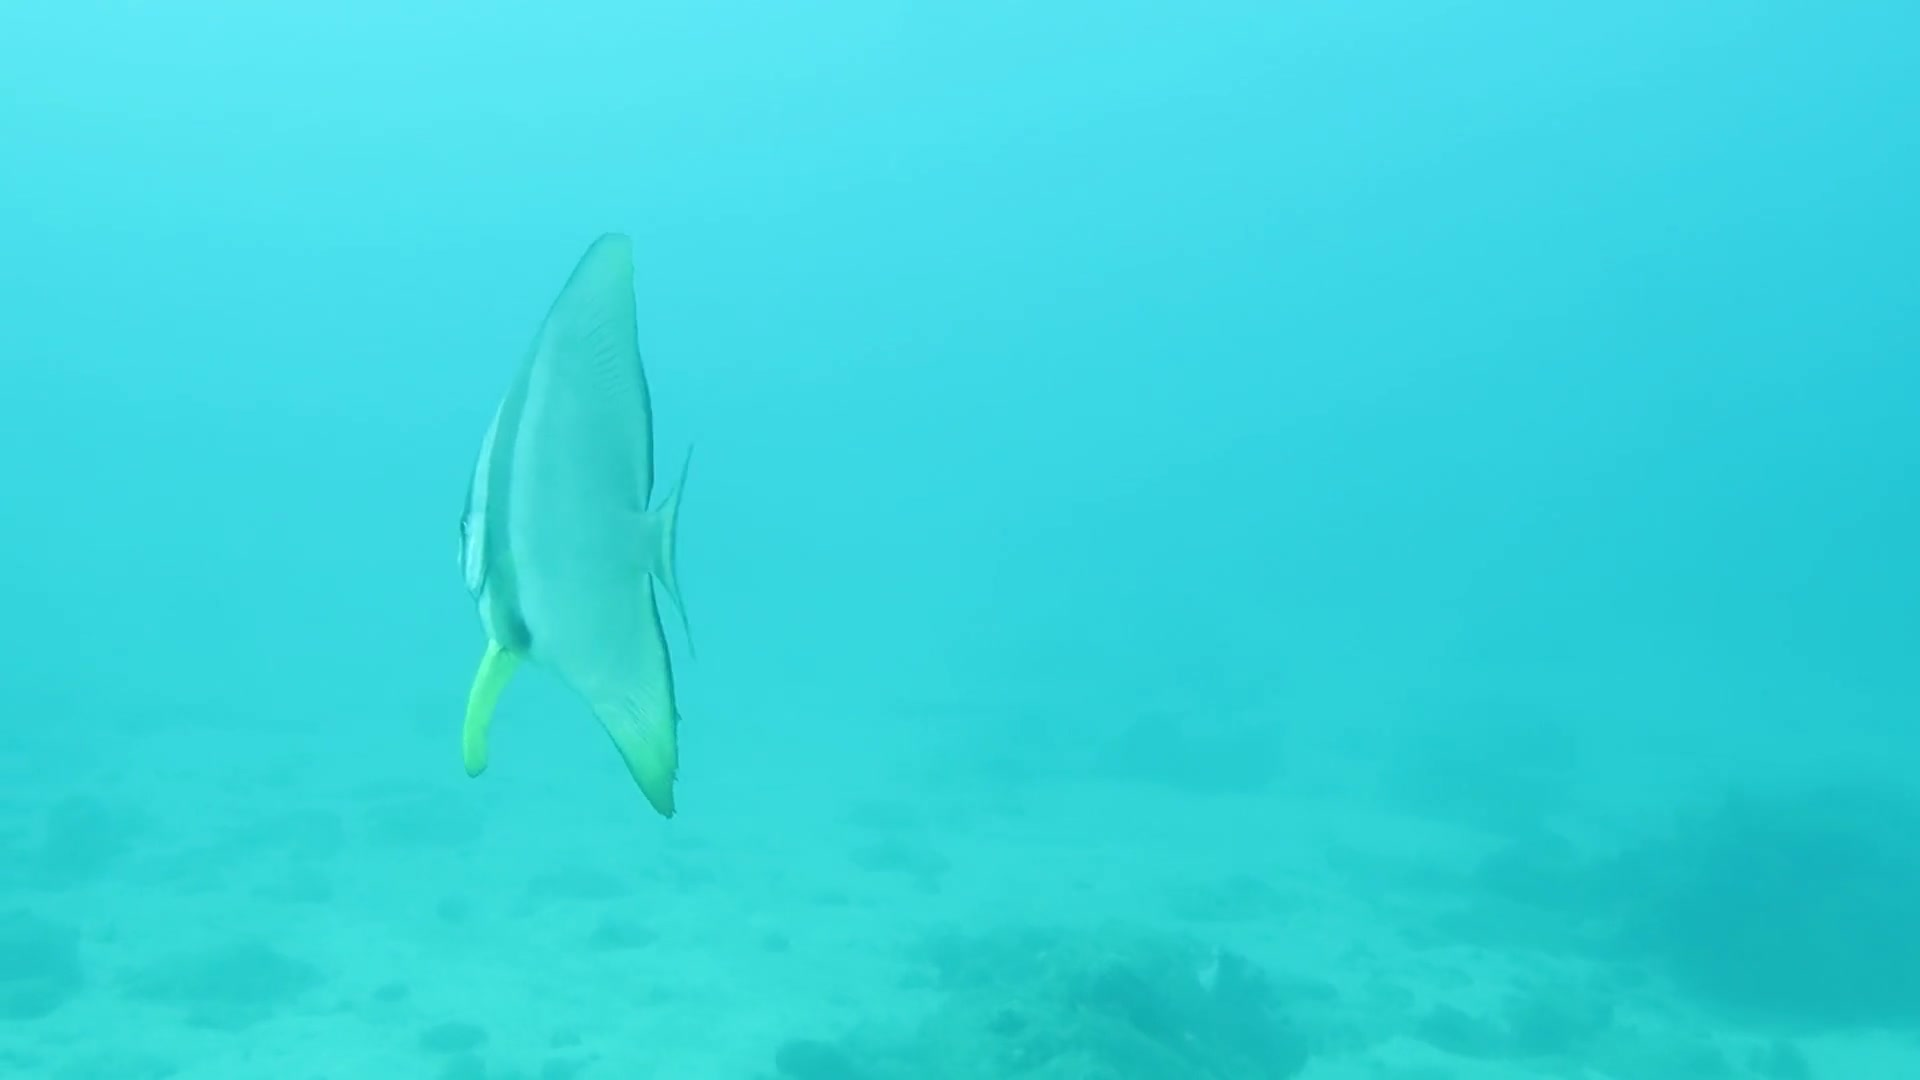Platax teira: (342, 169, 894, 943)
